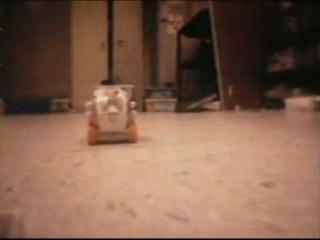cozmo: (84, 83, 140, 145)
